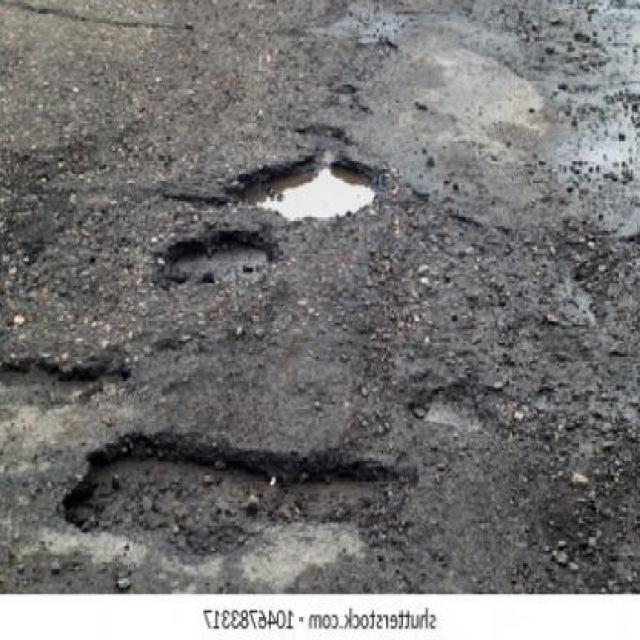pothole: (59, 432, 410, 563), (237, 154, 380, 228), (156, 226, 285, 291), (1, 357, 134, 419)
